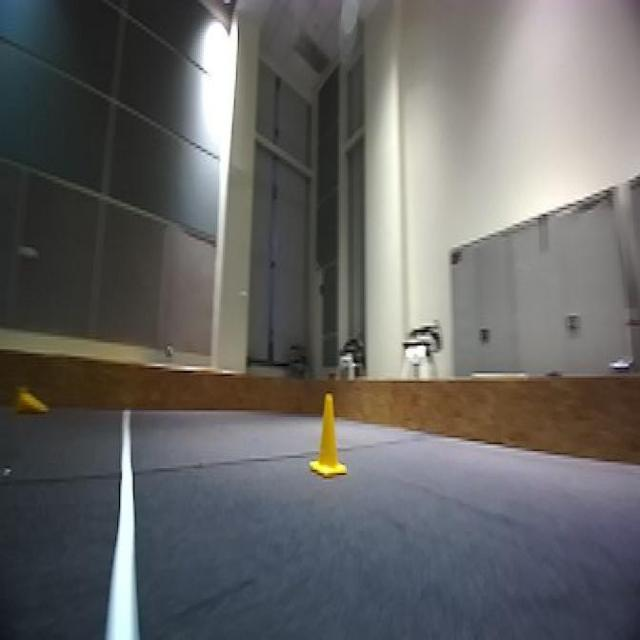frc_cone: (311, 393, 348, 480), (13, 385, 45, 415)
